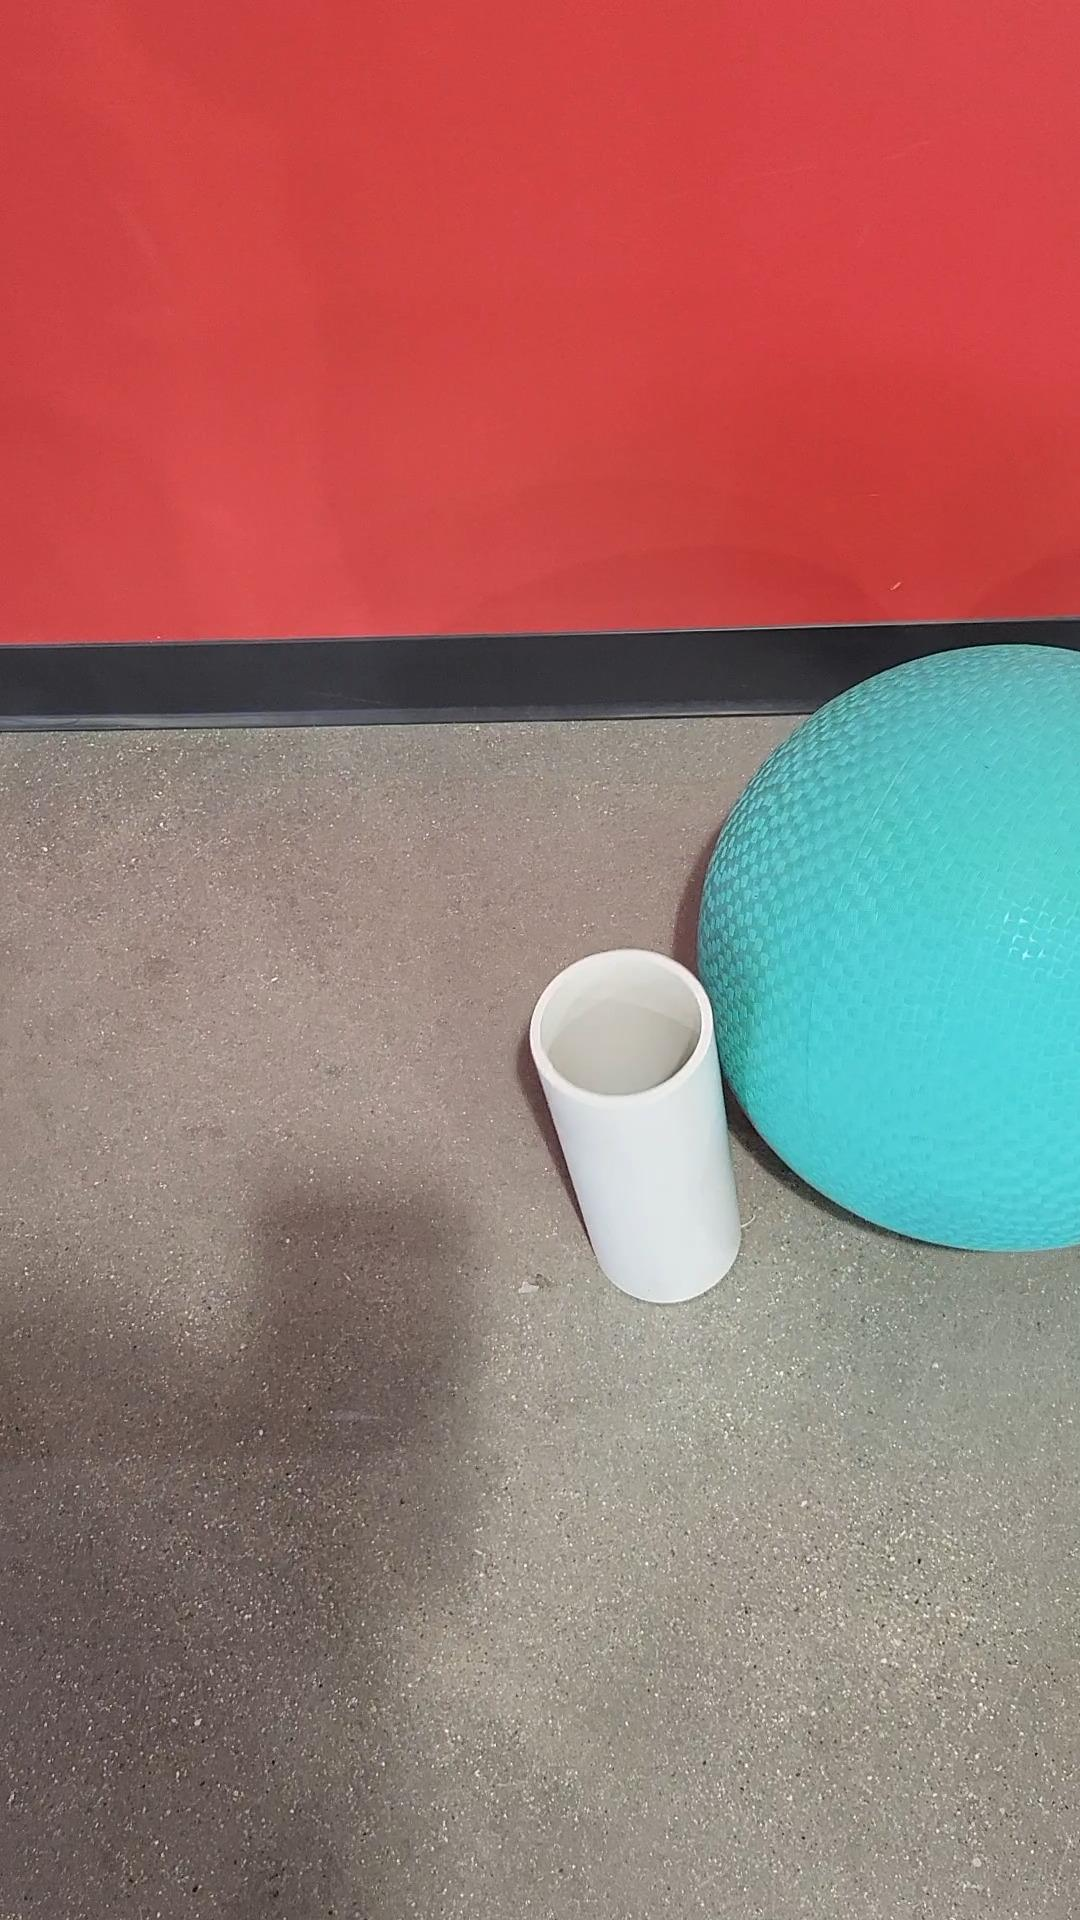algae: (699, 641, 1079, 1257)
coral: (527, 945, 746, 1304)
